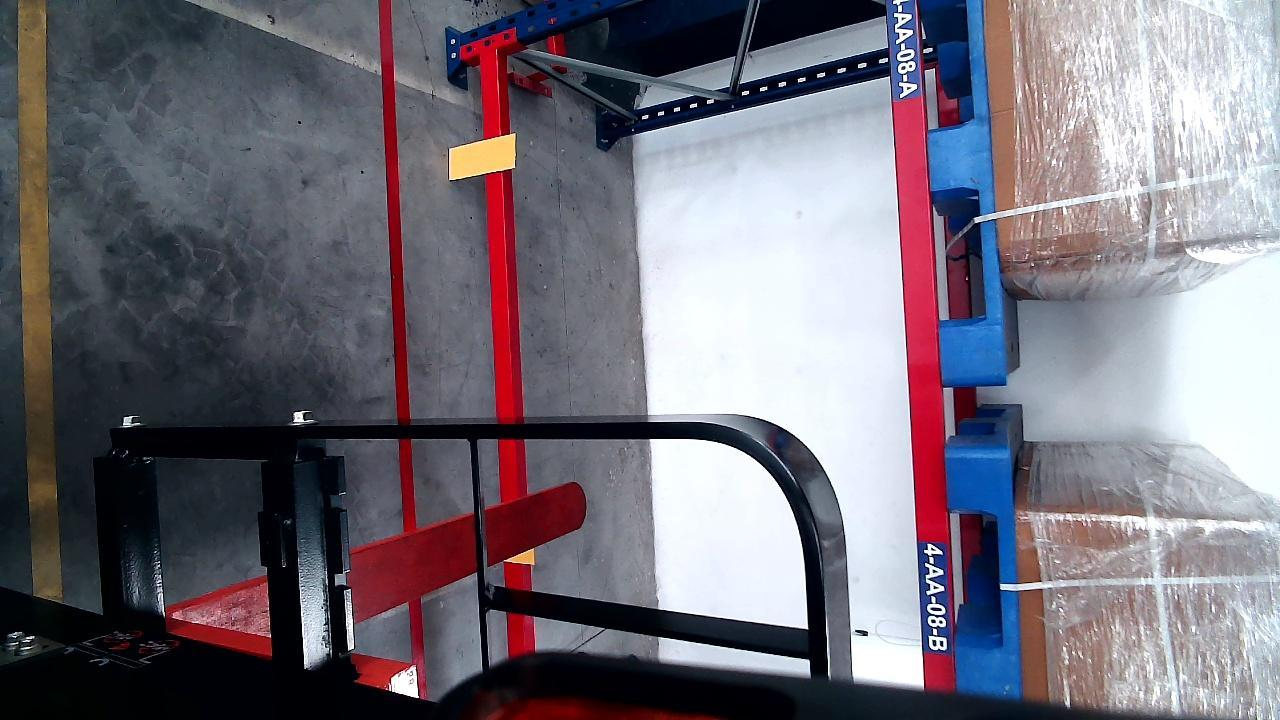red_line: (375, 0, 427, 685)
yellow_line: (18, 4, 59, 604)
